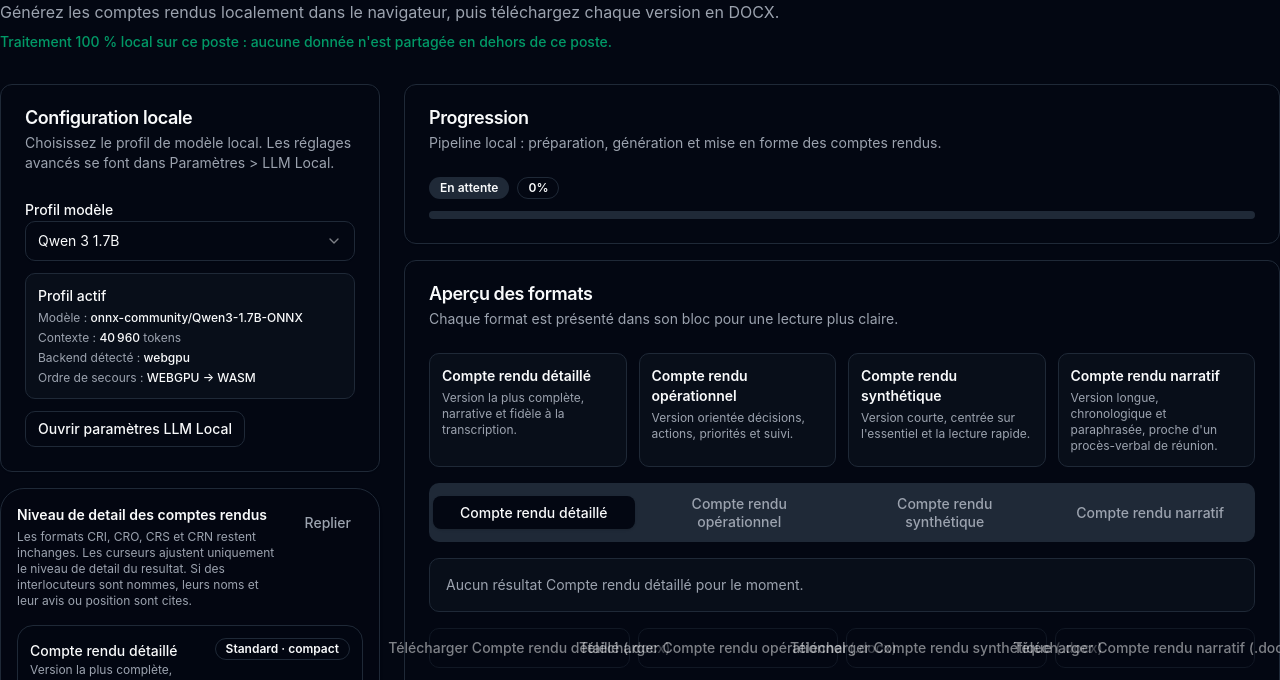
LLMLocalPage › renders local preview blocks with optional lists
Step 1. Click the tab "Compte rendu synthétique" → (945, 512), box [844,487,1046,538]
(page scrolled)
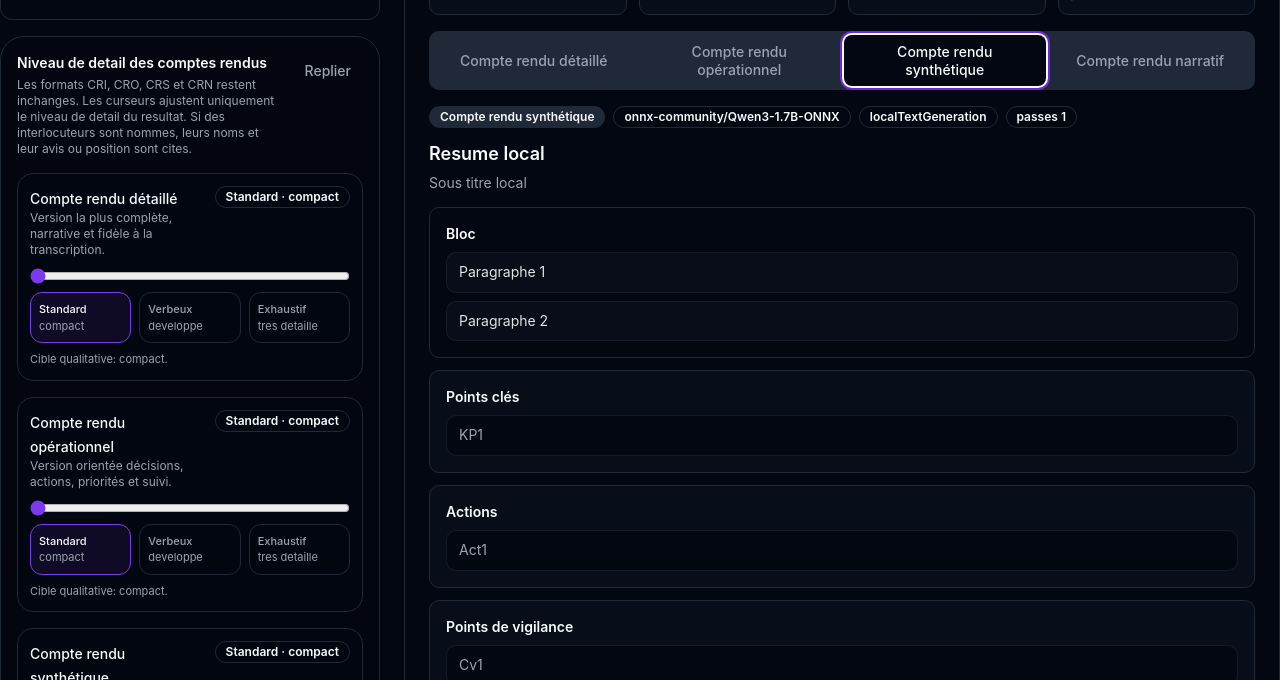
Expected: the heading "Resume local" is shown, [429,143,545,164]
Expected: the text "Sous titre local" is shown, [429,174,527,191]
Expected: the text "Points clés" is shown, [446,388,520,405]
